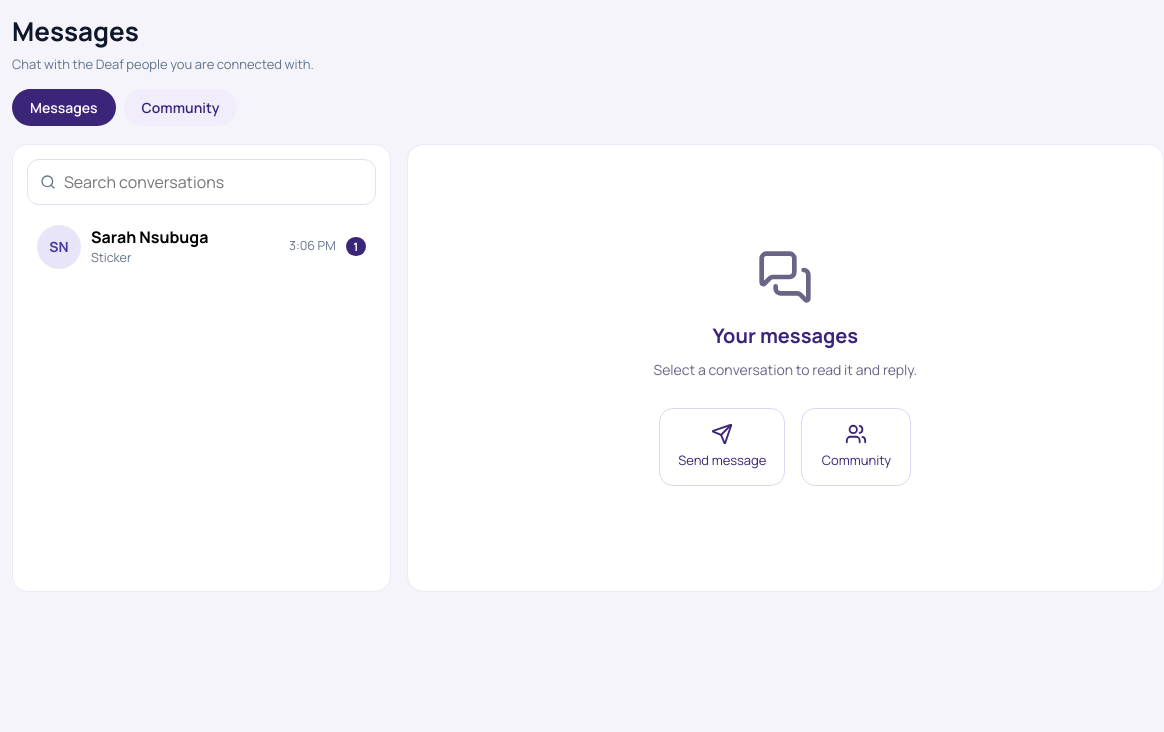
Test: MessagesPage › shows a received sticker, and the word Sticker in the conversation list
Check: the text "Sticker" is shown, box [91,249,131,266]
Step 1. Click the button "SN Sarah Nsubuga Sticker 3:06 PM 1" → (201, 246), box [27,214,376,278]
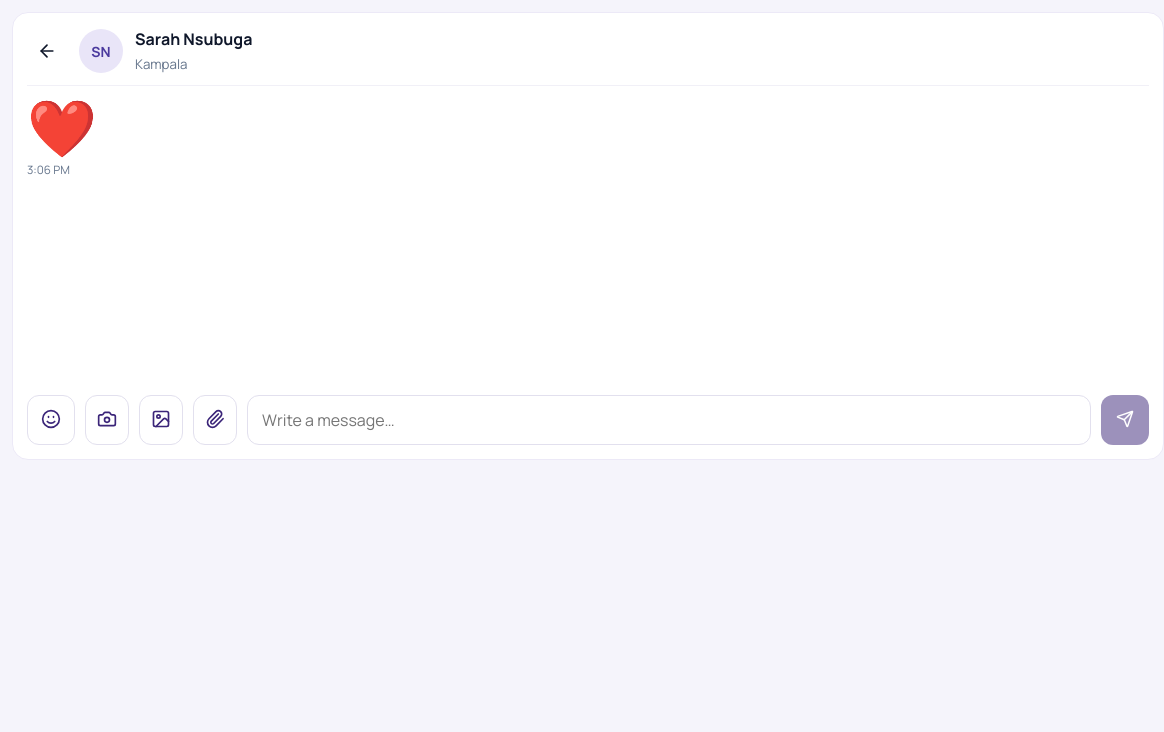
Check: the picture named "Heart" is shown, box [27,96,97,158]
